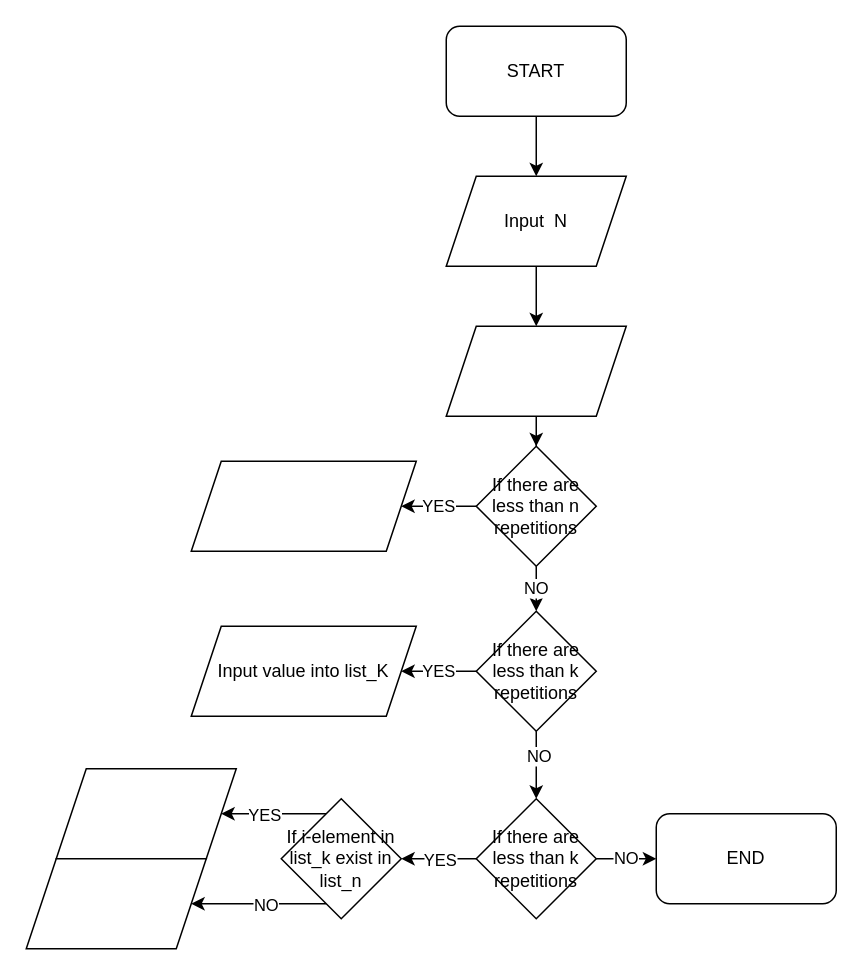
Image size: 863x975. Some labels were removed from this diagram. Each missing label, with the centre of its shape:
Input K: (x=535, y=370)
Input value into list_n: (x=303, y=505)
print NO: (x=115, y=903)
print YES: (x=145, y=813)
